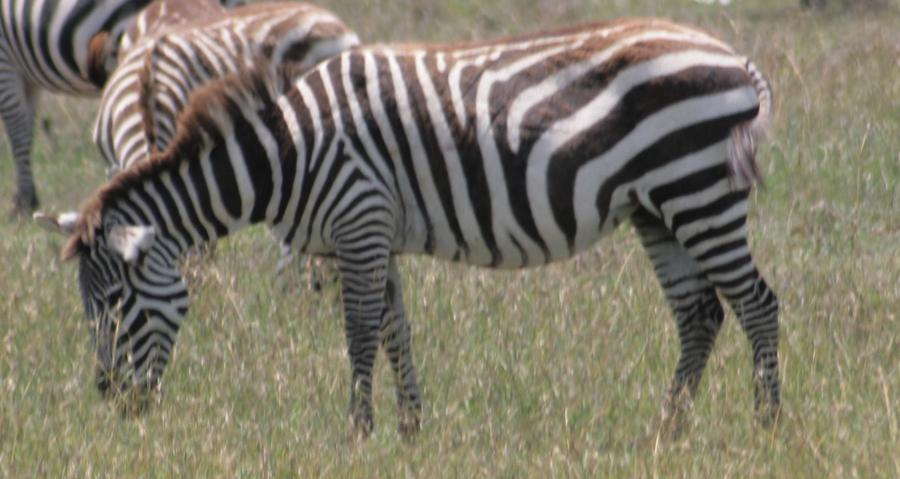zebra_plains: (274, 13, 783, 279)
